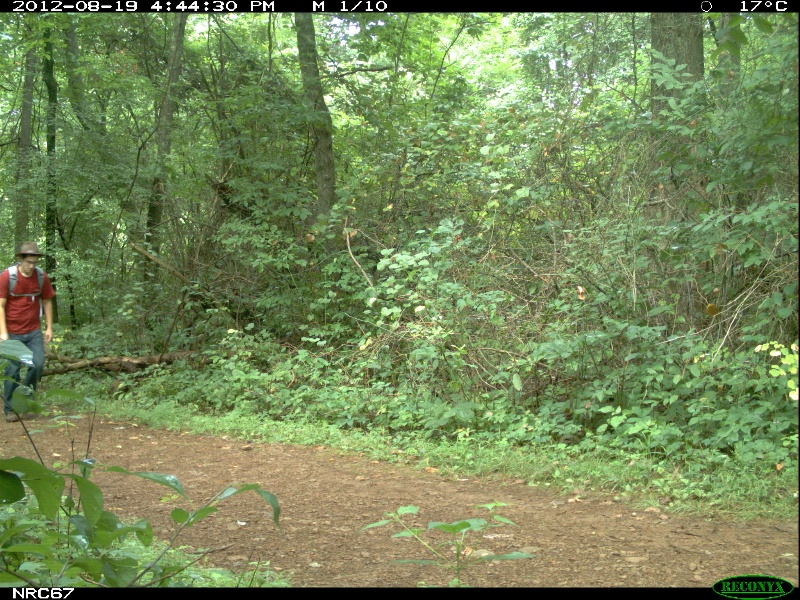human: (1, 240, 55, 419)
human face: (19, 245, 39, 274)
human legs: (1, 326, 47, 423)
